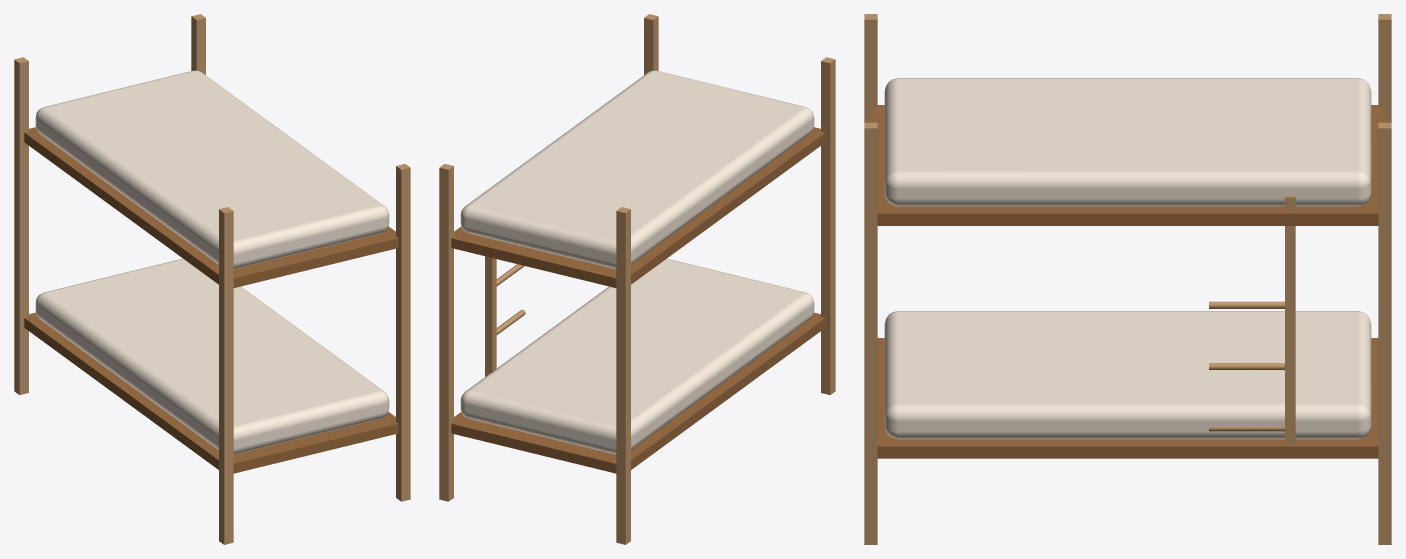
Rendered from bunkbed-lite.glb.
3 views of the same model, side by side, from view 1: azimuth 30°, elevation 25°; view 2: azimuth 150°, elevation 25°; view 3: azimuth 270°, elevation 25° (orthographic). The views are drawn at different scales.
Parts seen in each view (by area): view 1: material-1-upholstery, material-0-leg, material-2-shelf; view 2: material-1-upholstery, material-0-leg, material-2-shelf; view 3: material-1-upholstery, material-2-shelf, material-0-leg.
Part boxes in pixels (<box>): material-1-upholstery: <box>35,70,389,454</box>; material-0-leg: <box>14,14,410,544</box>; material-2-shelf: <box>24,127,398,473</box>; material-1-upholstery: <box>460,70,814,454</box>; material-0-leg: <box>439,14,835,544</box>; material-2-shelf: <box>451,127,825,473</box>; material-1-upholstery: <box>884,78,1371,439</box>; material-2-shelf: <box>871,105,1384,458</box>; material-0-leg: <box>864,14,1391,544</box>.
Size of the model in its own units: 1 by 1.7 by 1.95.
